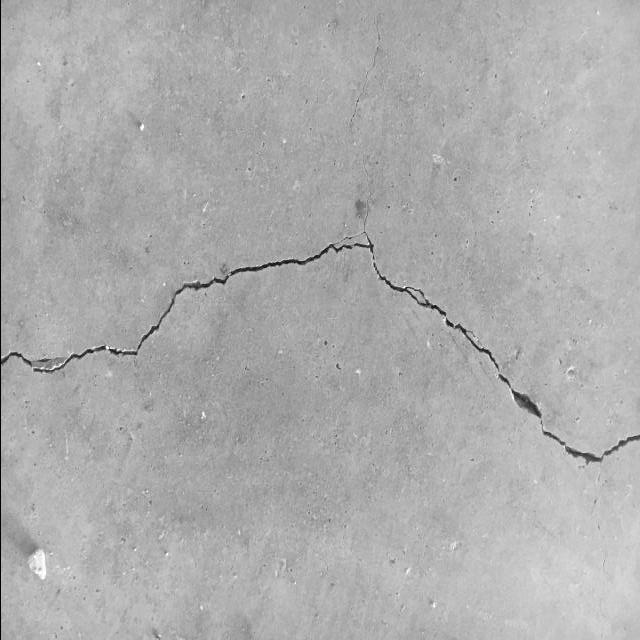SurfaceCrack: (1, 213, 640, 492)
